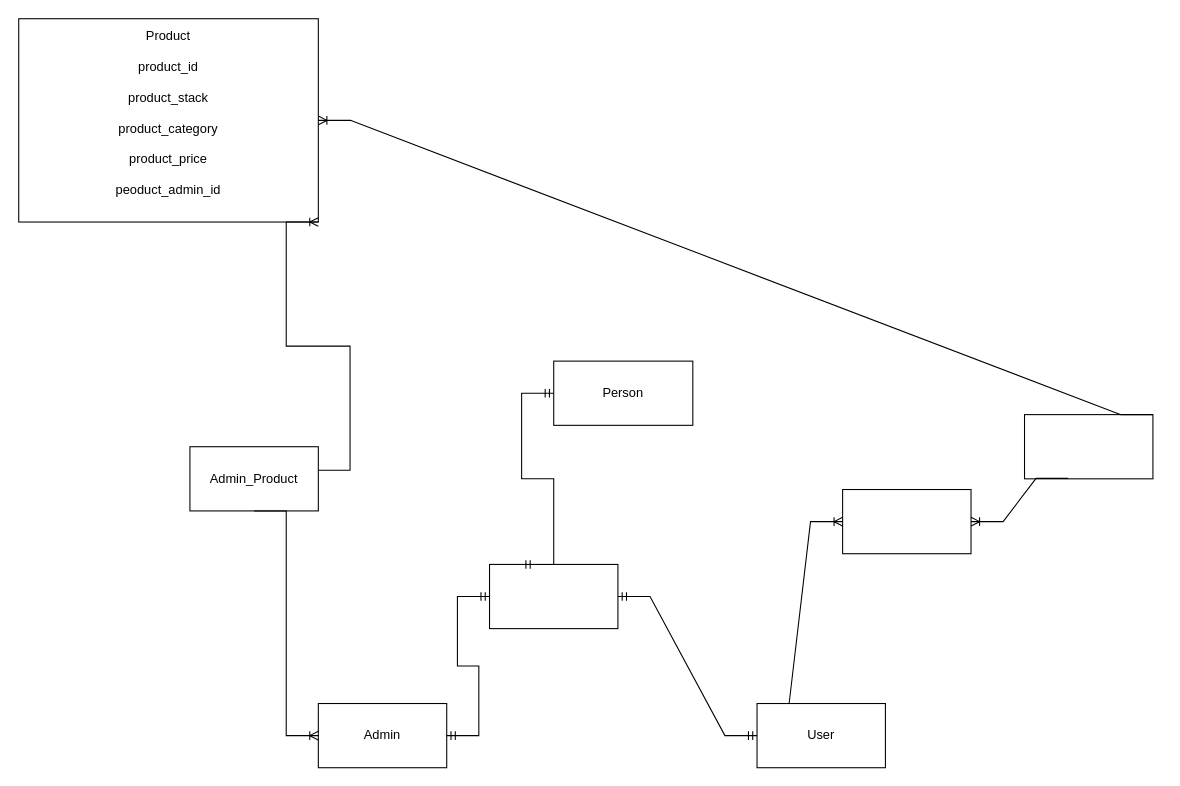
This 1180x786 diagram has some shape labels left out. The shapes that lost their labels are listed below. From the top down, each one's centre as x and y in pixels, then its label:
the point at 1088,446: Order order_id
the point at 906,521: Invoice
the point at 553,596: Person_Role
